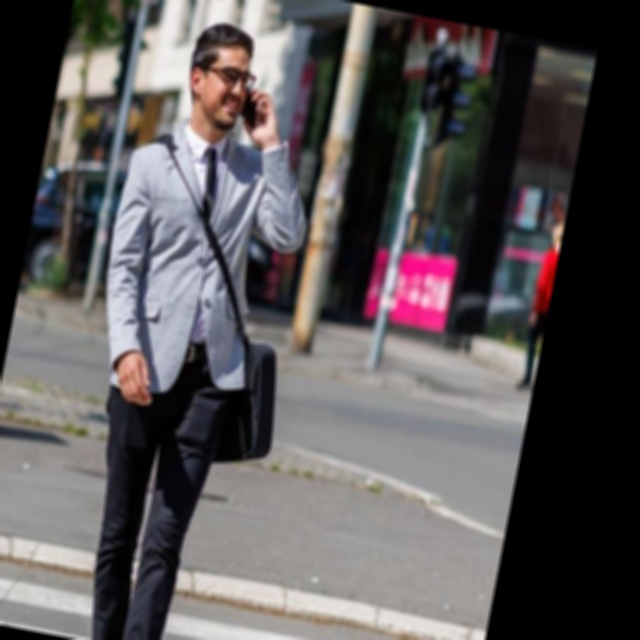Sin_Casco_Mascarrilla: (179, 17, 264, 136)
Sin_Chaleco: (96, 119, 275, 370)
